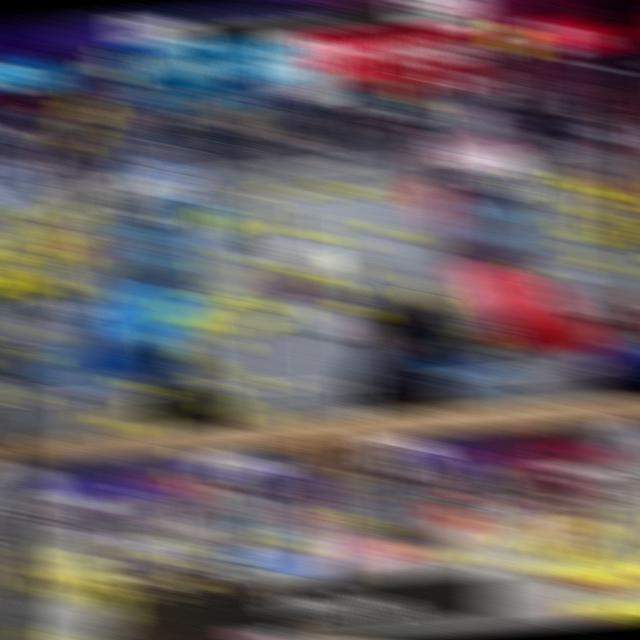ball_airborne: (68, 104, 99, 126), (184, 484, 214, 506), (174, 472, 204, 491), (2, 204, 32, 222), (66, 120, 96, 138), (78, 100, 108, 117), (181, 452, 210, 469), (51, 135, 80, 152), (64, 120, 94, 136), (92, 65, 120, 80), (74, 91, 102, 106)
ball_ground: (606, 565, 638, 587), (562, 566, 594, 587), (460, 550, 490, 570), (184, 351, 214, 370), (474, 551, 504, 570), (178, 316, 208, 334), (22, 350, 52, 368), (212, 334, 242, 352), (197, 318, 226, 336), (342, 303, 371, 321), (351, 303, 379, 321), (334, 276, 362, 294), (394, 542, 423, 559), (217, 318, 244, 336), (596, 552, 626, 568), (594, 258, 624, 274), (272, 302, 302, 318), (205, 289, 233, 306), (170, 316, 198, 333), (514, 262, 543, 278), (23, 326, 52, 342), (197, 291, 224, 308), (568, 244, 596, 260), (190, 291, 218, 307), (578, 232, 607, 247), (86, 259, 115, 274), (228, 252, 255, 268), (206, 277, 233, 293), (314, 283, 342, 298), (122, 378, 151, 392), (611, 237, 640, 251), (336, 234, 363, 249), (222, 264, 249, 279), (558, 220, 586, 234), (608, 209, 636, 223), (588, 210, 616, 224), (231, 204, 259, 218), (418, 235, 444, 250), (201, 266, 228, 280), (508, 184, 534, 198), (198, 228, 224, 241), (515, 172, 541, 185), (232, 308, 260, 320), (247, 202, 274, 214), (429, 530, 456, 542), (404, 184, 430, 196), (0, 291, 21, 304), (202, 270, 229, 280)
goal: (443, 107, 522, 152), (114, 140, 190, 174)
robot_blue: (418, 296, 520, 399), (20, 254, 106, 324)
robot_red: (258, 228, 342, 308), (35, 200, 112, 268)
